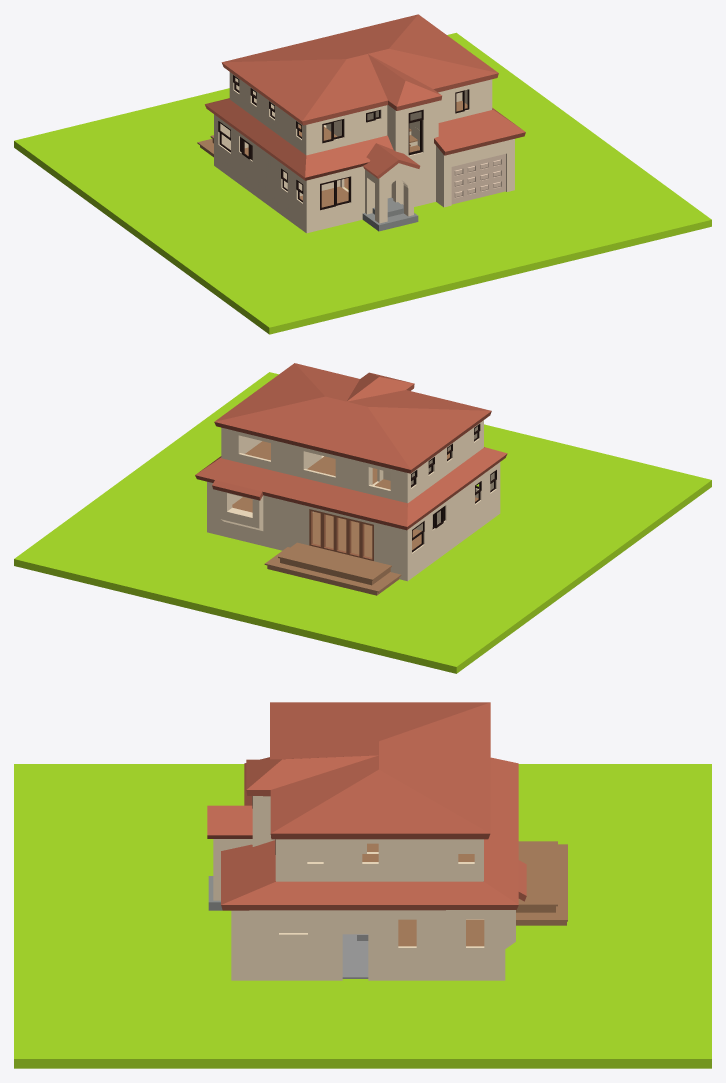
The model's file is HouseTestFile.glb.
3 renders of one model, top to bottom at view 1: azimuth 30°, elevation 25°; view 2: azimuth 150°, elevation 25°; view 3: azimuth 270°, elevation 25°, orthographic. The views are drawn at different scales.
Parts seen in each view (by area): view 1: Ground, Walls, Upper Roof Base, Lower Roof Base, Garage Door, Porch Structure, Porch Roof, Front Steps; view 2: Ground, Upper Roof Base, Walls, Lower Roof Base, Backyard Deck.002, Floor, Deck Window, Window Extension, Backyard Deck, Backyard Deck.001, Floor 2; view 3: Ground, Upper Roof Base, Walls, Lower Roof Base, Backyard Deck.002, Porch Roof, Backyard Deck.001, Garage Floor, Floor, Porch Structure.
Part boxes in pixels (left/top/right/bottom): Ground: left=14, top=32, right=711, bottom=334; Walls: left=214, top=72, right=514, bottom=233; Upper Roof Base: left=221, top=14, right=498, bottom=125; Lower Roof Base: left=205, top=98, right=525, bottom=180; Garage Door: left=451, top=154, right=505, bottom=204; Porch Structure: left=365, top=163, right=413, bottom=223; Porch Roof: left=363, top=143, right=420, bottom=178; Front Steps: left=362, top=197, right=418, bottom=231; Ground: left=14, top=372, right=711, bottom=673; Upper Roof Base: left=214, top=363, right=491, bottom=473; Walls: left=207, top=420, right=500, bottom=581; Lower Roof Base: left=195, top=447, right=507, bottom=530; Backyard Deck.002: left=278, top=542, right=391, bottom=580; Floor: left=232, top=497, right=478, bottom=557; Deck Window: left=309, top=509, right=373, bottom=560; Window Extension: left=220, top=491, right=263, bottom=530; Backyard Deck: left=267, top=558, right=399, bottom=595; Backyard Deck.001: left=264, top=547, right=401, bottom=592; Floor 2: left=245, top=441, right=449, bottom=489; Ground: left=14, top=764, right=711, bottom=1068; Upper Roof Base: left=246, top=702, right=490, bottom=839; Walls: left=231, top=796, right=505, bottom=980; Lower Roof Base: left=221, top=757, right=526, bottom=910; Backyard Deck.002: left=518, top=841, right=557, bottom=906; Porch Roof: left=207, top=805, right=252, bottom=838; Backyard Deck.001: left=516, top=844, right=567, bottom=921; Garage Floor: left=342, top=934, right=368, bottom=978; Floor: left=398, top=919, right=484, bottom=946; Porch Structure: left=213, top=839, right=252, bottom=900.
Size of the model in its own units: 22.48 by 6.14 by 22.48.
